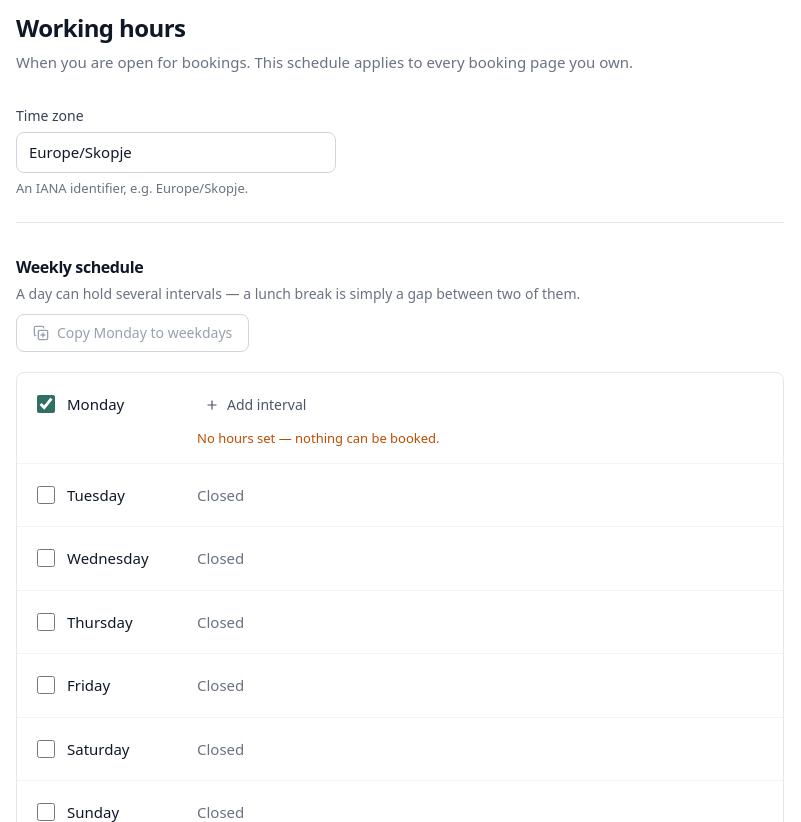
WorkingHoursPage — copy Monday to weekdays › becomes available as soon as Monday has an interval
The image size is (801, 822).
Expected: the checkbox labelled "Monday" is shown, left=37, top=395, right=55, bottom=413
Click the button "Add interval".
click(256, 405)  # box left=189, top=387, right=322, bottom=423
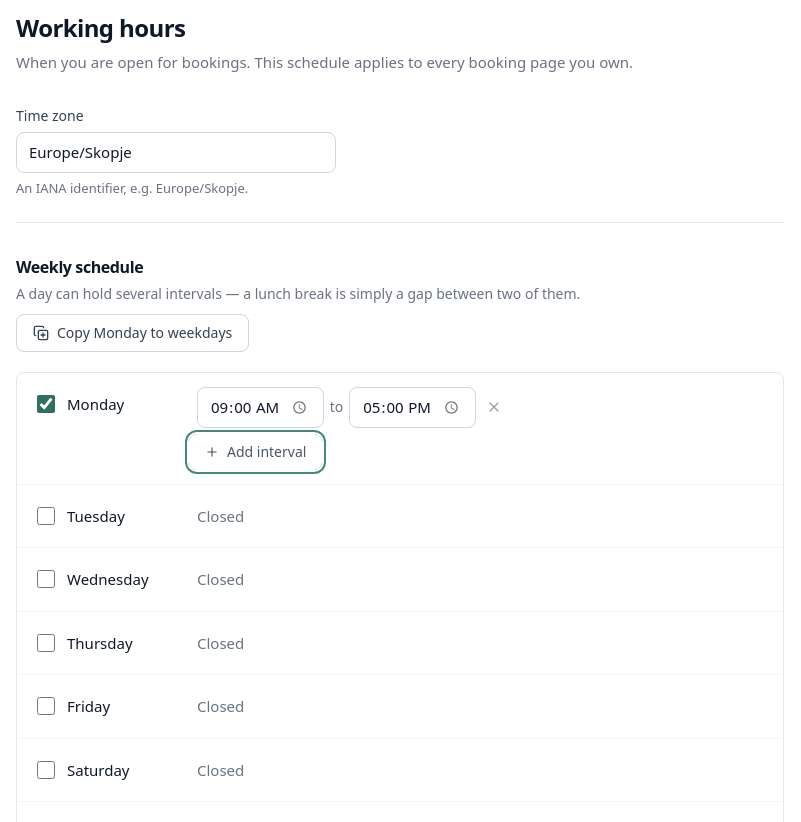
Now the button "Copy Monday to weekdays" is enabled, box left=16, top=314, right=249, bottom=352
